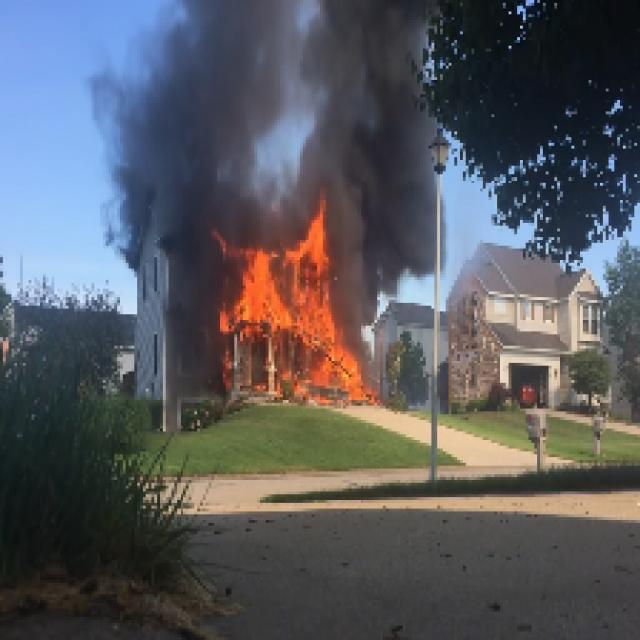Fire: (230, 247, 332, 342)
Smoke: (225, 8, 428, 233), (149, 5, 222, 330)
